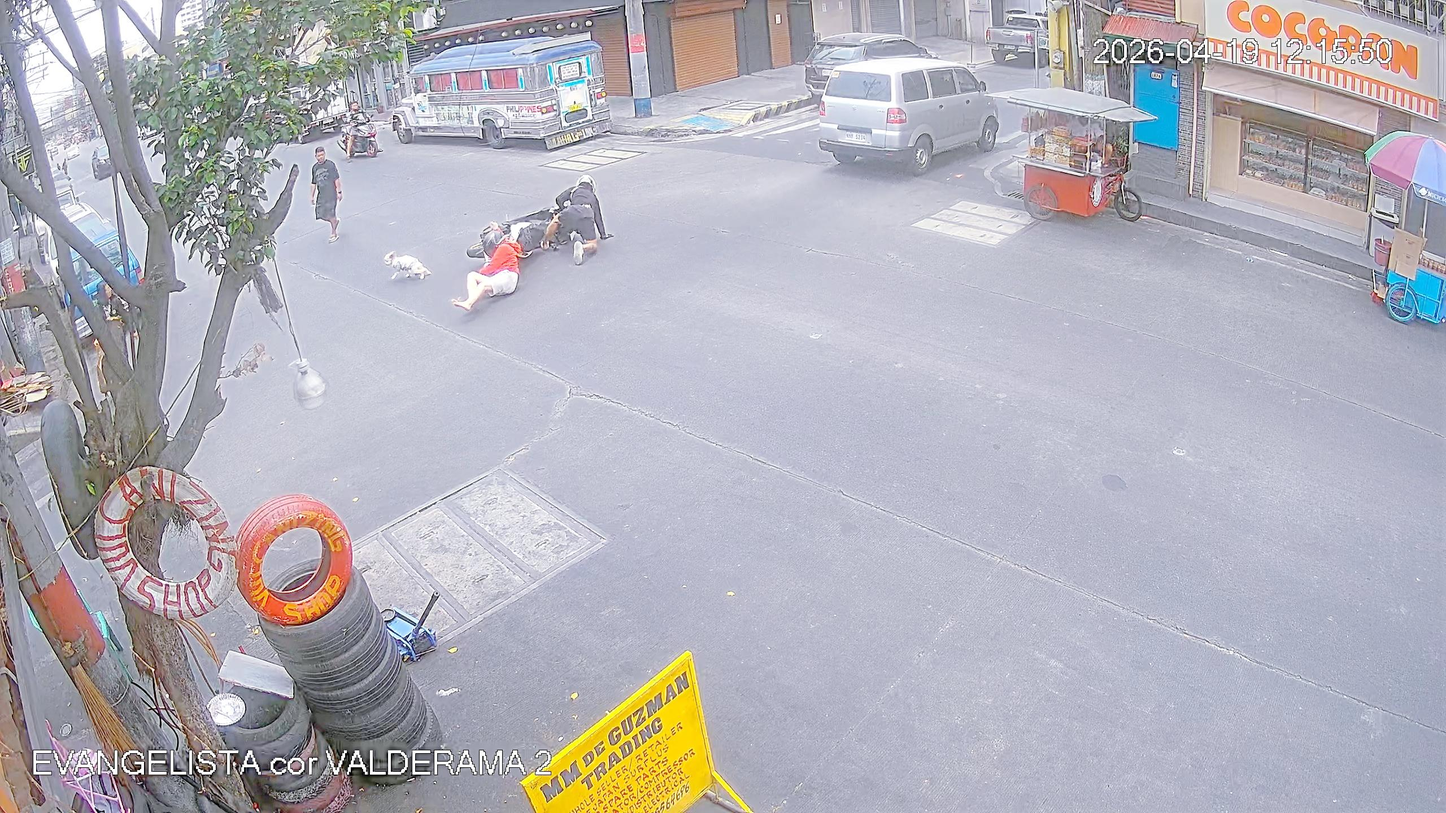Car: (826, 60, 1001, 166)
Motor: (465, 196, 604, 268)
